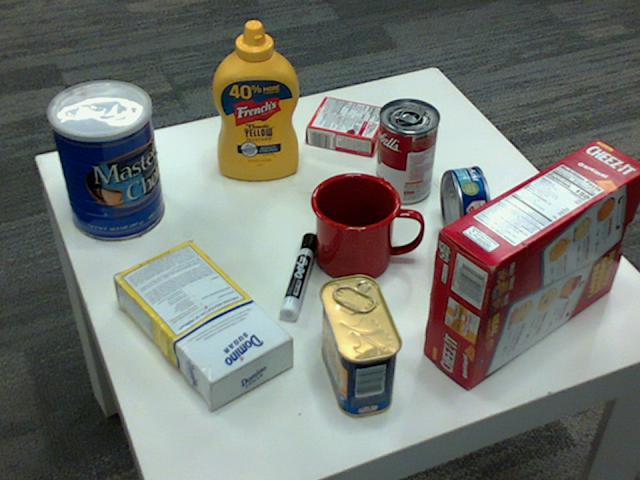cracker_box: (422, 138, 639, 387)
gelatin_box: (307, 96, 390, 154)
large_marker: (277, 234, 318, 325)
master_chef_can: (45, 80, 162, 241)
mug: (309, 170, 420, 279)
mustard_bottle: (212, 21, 298, 179)
potted_meat_can: (318, 275, 403, 416)
sugar_box: (110, 238, 290, 405)
tomato_soup_can: (374, 99, 438, 204)
tuna_fish_can: (439, 165, 490, 245)
